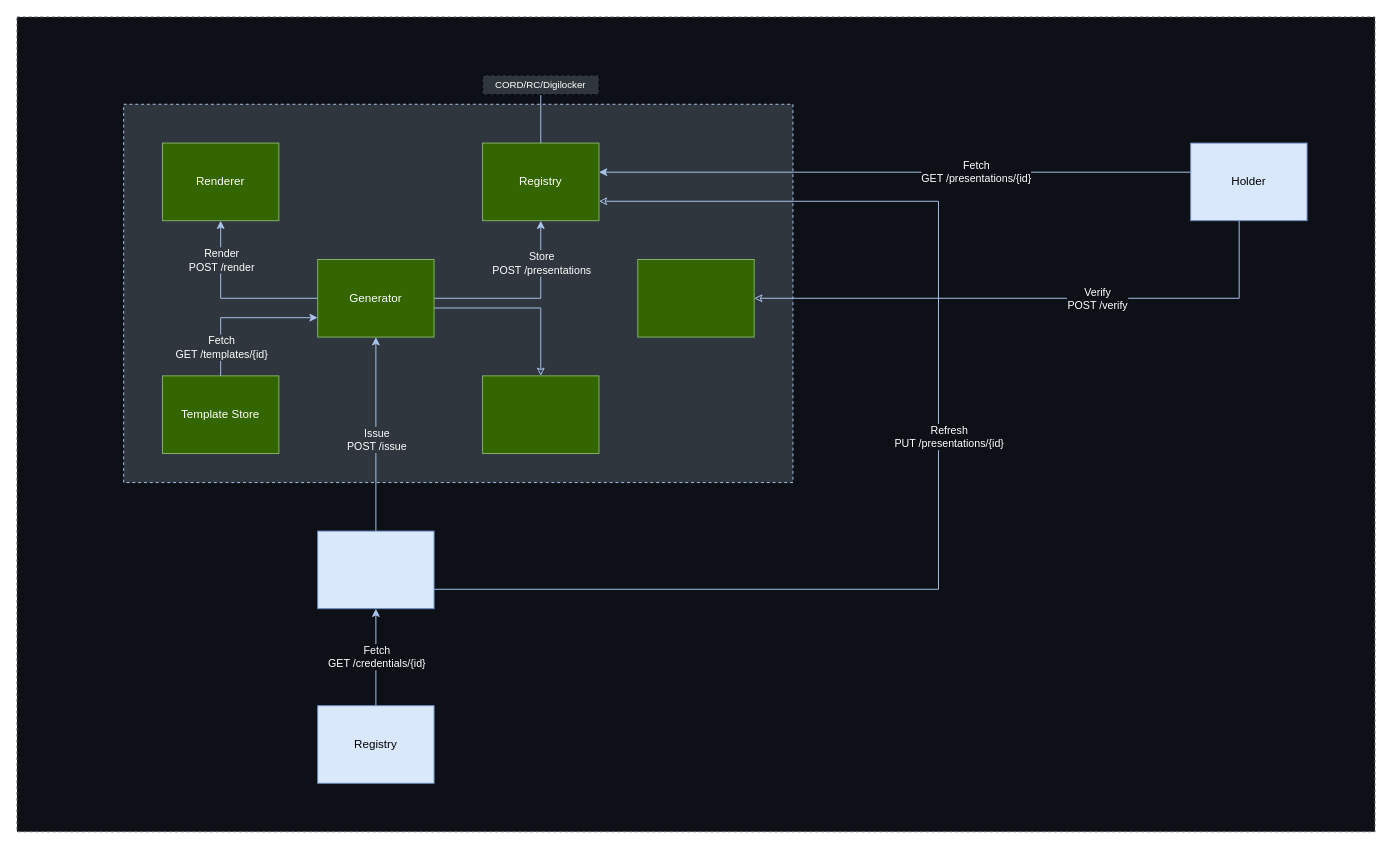
This 1392x849 diagram has some shape labels left out. The box of each missing label's shape, as (x1, y1, x2, y2) in pixels:
Hooks: (482, 375, 599, 453)
Issuer: (317, 530, 434, 609)
Verifier: (637, 259, 754, 337)
